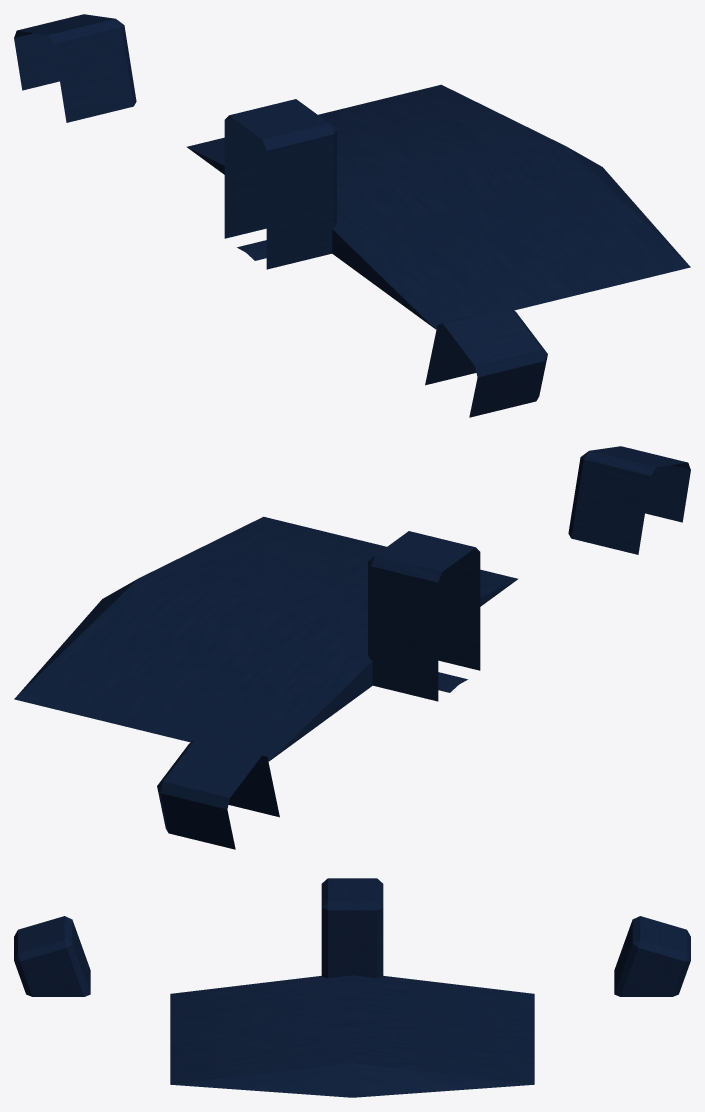
The model's file is cell_47.obj.
3 views of the same model, one above another, from view 1: azimuth 30°, elevation 25°; view 2: azimuth 150°, elevation 25°; view 3: azimuth 270°, elevation 25° (orthographic). The views are drawn at different scales.
Parts seen in each view (by area): view 1: cell_47; view 2: cell_47; view 3: cell_47.
Part boxes in pixels (box(x1,y1,x2,y2)): cell_47: box(14, 14, 690, 417); cell_47: box(14, 446, 690, 849); cell_47: box(14, 878, 690, 1097).
Bounding box in the file's own units: 0.2253 × 0.0763 × 0.5068.
